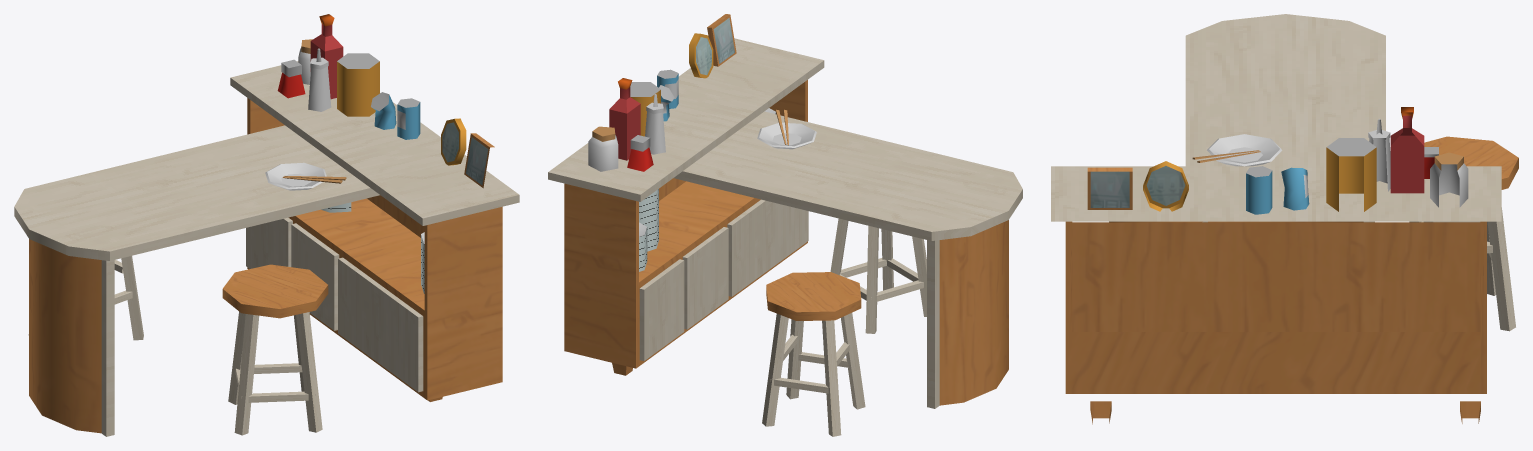
File: interior_A_010.fbx
3 views of the same model, side by side, from view 1: azimuth 30°, elevation 25°; view 2: azimuth 150°, elevation 25°; view 3: azimuth 270°, elevation 25° (orthographic). The views are drawn at different scales.
Visible parts, largest first — view 1: interior_A_010; view 2: interior_A_010; view 3: interior_A_010.
Boxes of the visible parts, <box> form: interior_A_010: <box>14,14,519,436</box>; interior_A_010: <box>548,14,1022,436</box>; interior_A_010: <box>1051,14,1518,424</box>.
Size of the model in its own units: 184 by 127 by 163.
